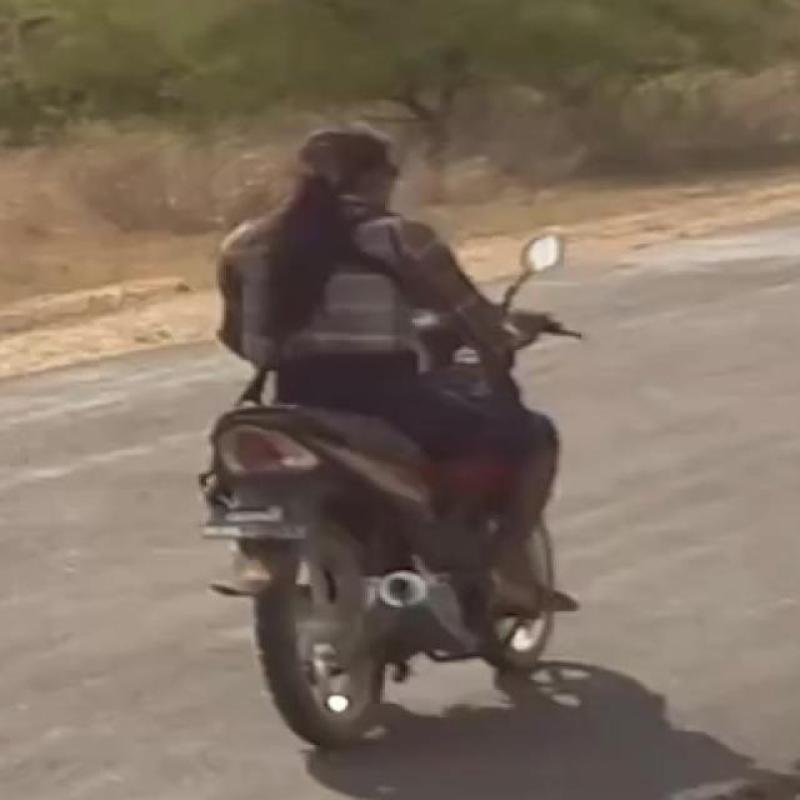nohelmet: (254, 108, 386, 216)
